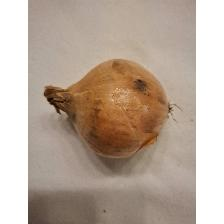Zwiebel: (42, 54, 184, 162)
